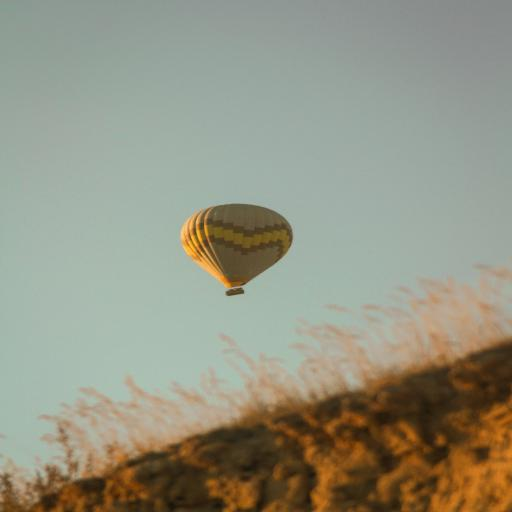hot air ballon: (174, 202, 296, 300)
